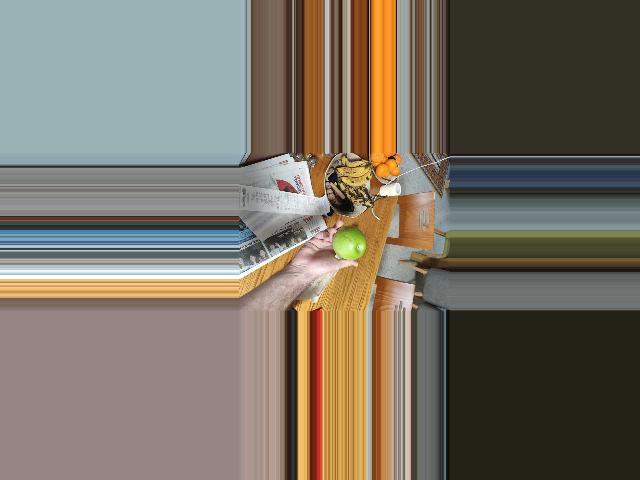apple: (330, 226, 368, 258)
